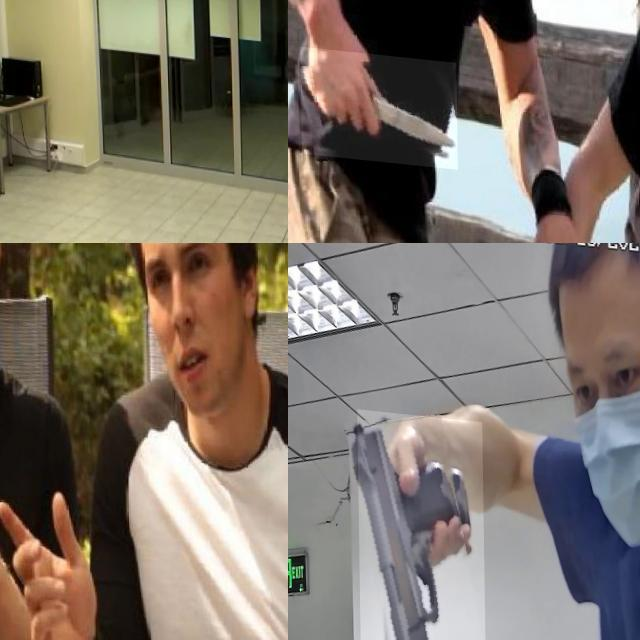-: (300, 45, 457, 165), (0, 554, 53, 640)
gun-knife-thesis - v11 Yolov5 augmented: (356, 403, 485, 640)
